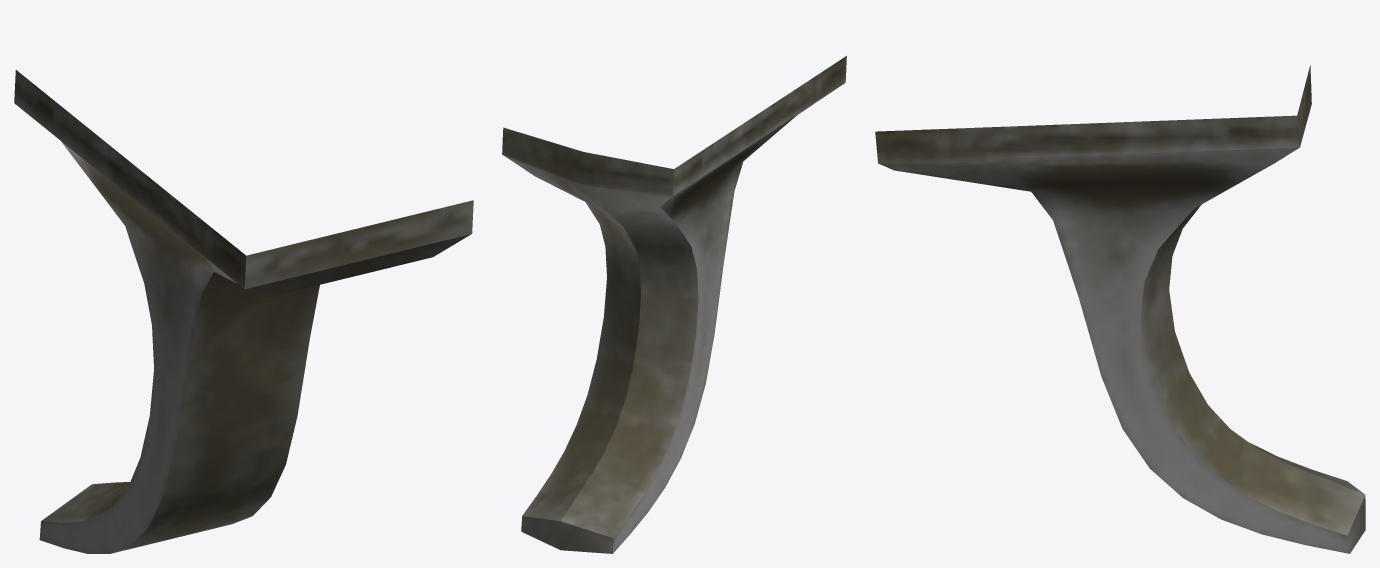
Rendered from TRIGGER.gltf.
The picture shows the model from 3 angles, left to right: view 1: azimuth 30°, elevation 25°; view 2: azimuth 150°, elevation 25°; view 3: azimuth 270°, elevation 25°; orthographic projection. The views are drawn at different scales.
Visible parts, largest first — view 1: TRIGGER; view 2: TRIGGER; view 3: TRIGGER.
Boxes of the visible parts, x1,y1,x2,y2 form: TRIGGER: [14, 70, 473, 553]; TRIGGER: [502, 56, 846, 553]; TRIGGER: [875, 65, 1365, 553].
Size of the model in its own units: 0.0147 by 0.0314 by 0.03.
Materials: 1 (1 with a texture image).
